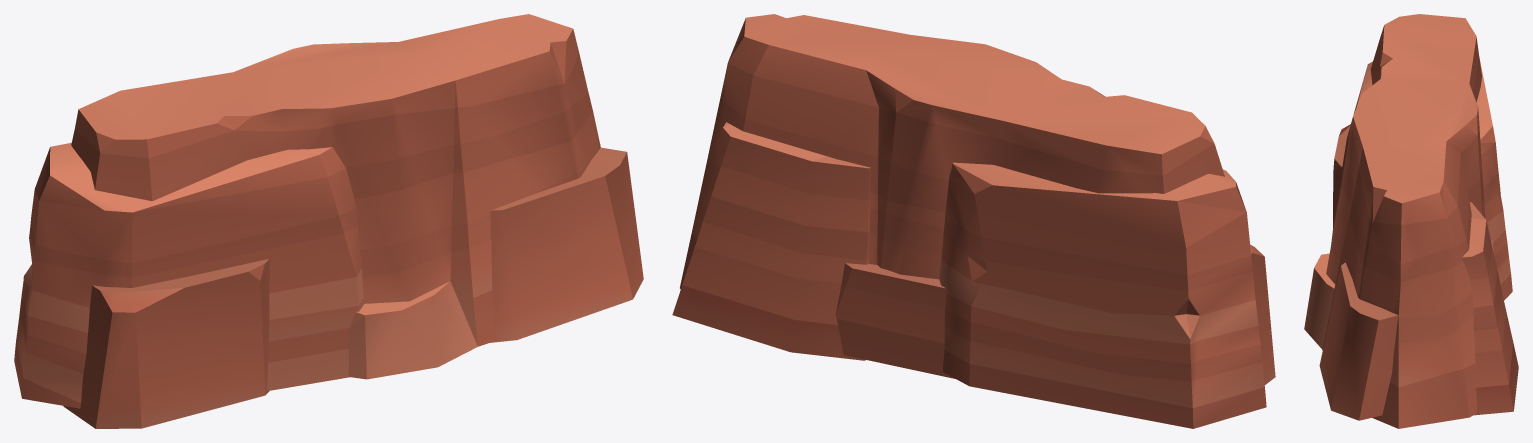
File: desert-cliff.obj
3 renders of one model, left to right at view 1: azimuth 30°, elevation 25°; view 2: azimuth 150°, elevation 25°; view 3: azimuth 270°, elevation 25°, orthographic. The views are drawn at different scales.
Visible parts, largest first — view 1: desert-cliff; view 2: desert-cliff; view 3: desert-cliff.
Boxes of the visible parts, x1,y1,x2,y2 form: desert-cliff: (14, 14, 643, 428); desert-cliff: (672, 14, 1275, 428); desert-cliff: (1304, 14, 1518, 428).
Bounding box in the file's own units: 11189 × 4758 × 4276.
1 material, 1 textured.
